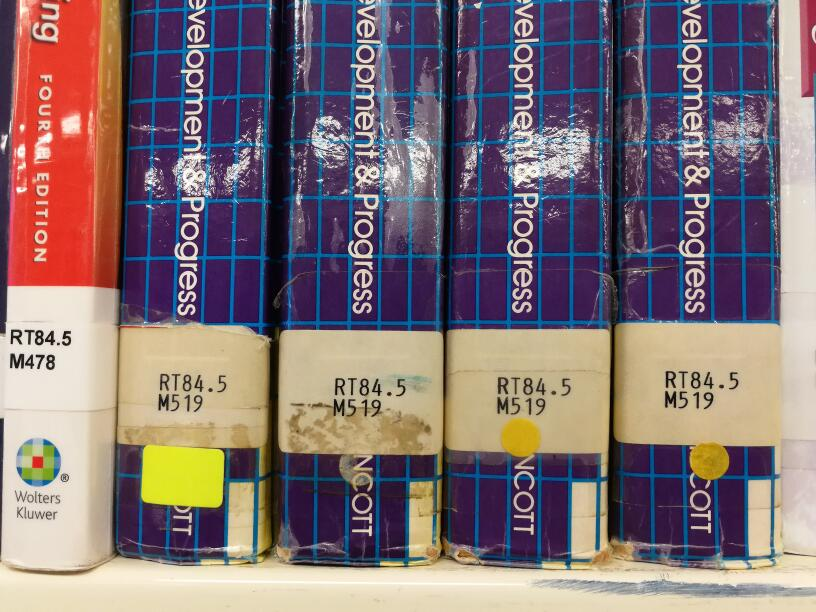booklabel: (659, 367, 741, 411), (493, 373, 574, 416), (331, 374, 409, 418), (154, 369, 229, 414), (7, 326, 73, 372)
